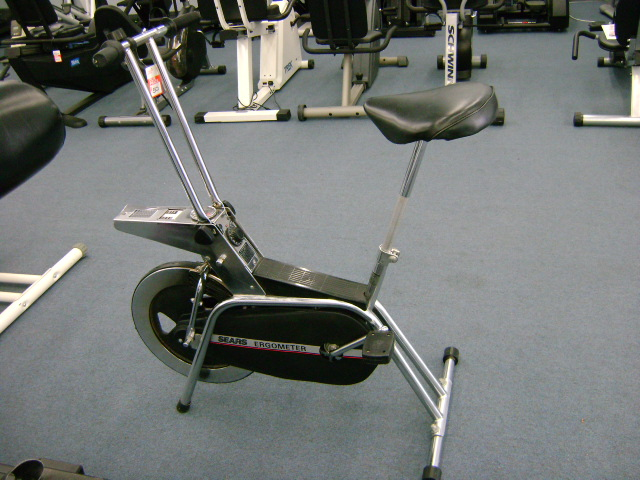gym_bike: (102, 76, 498, 461)
